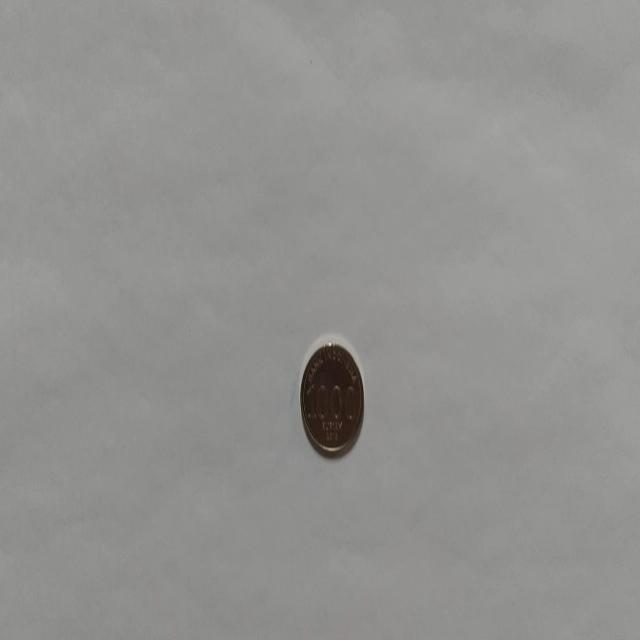seribu rupiah koin: (298, 337, 364, 458)
